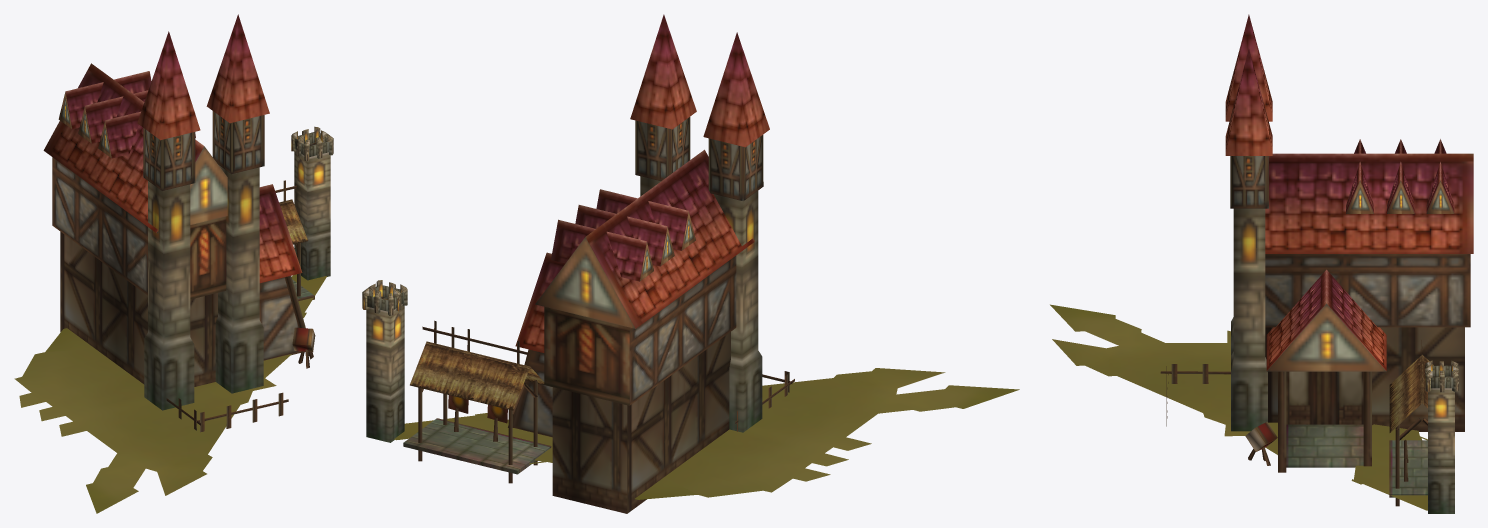
The model's file is TrainingGround_Level03.FBX.
3 views of the same model, side by side, from view 1: azimuth 30°, elevation 25°; view 2: azimuth 150°, elevation 25°; view 3: azimuth 270°, elevation 25° (orthographic). The views are drawn at different scales.
Visible parts, largest first — view 1: TrainingGround_Level03; view 2: TrainingGround_Level03; view 3: TrainingGround_Level03.
Part boxes in pixels (x1=…): TrainingGround_Level03: x1=14, y1=14, x2=333, y2=513; TrainingGround_Level03: x1=362, y1=14, x2=1019, y2=513; TrainingGround_Level03: x1=1050, y1=14, x2=1473, y2=513.
Size of the model in its own units: 1234 by 1072 by 1054.
